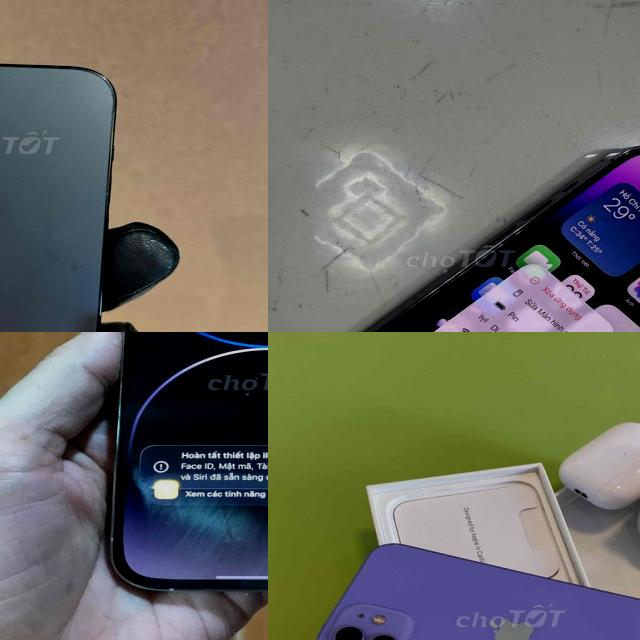gen_12_13: (310, 539, 640, 640)
gen_14: (268, 140, 640, 332), (105, 332, 268, 606), (0, 49, 134, 332)
